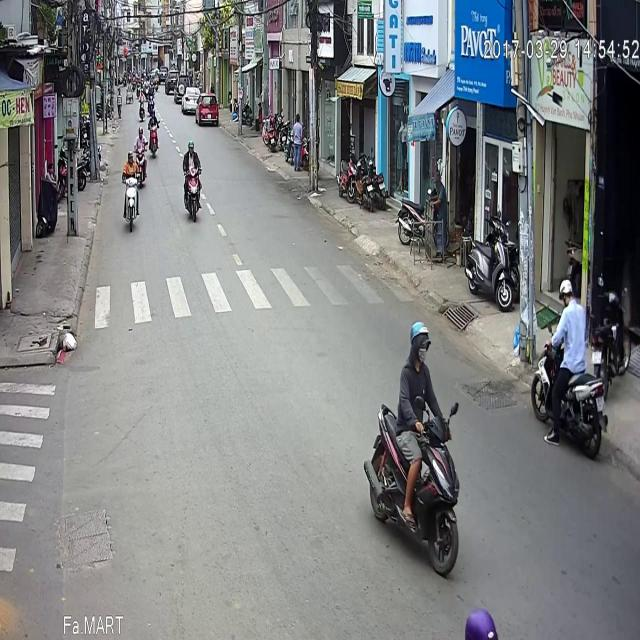car: (196, 34, 218, 68)
motorcycle: (364, 260, 462, 522), (532, 221, 604, 391), (121, 92, 139, 175), (134, 66, 148, 132), (147, 50, 159, 100)
